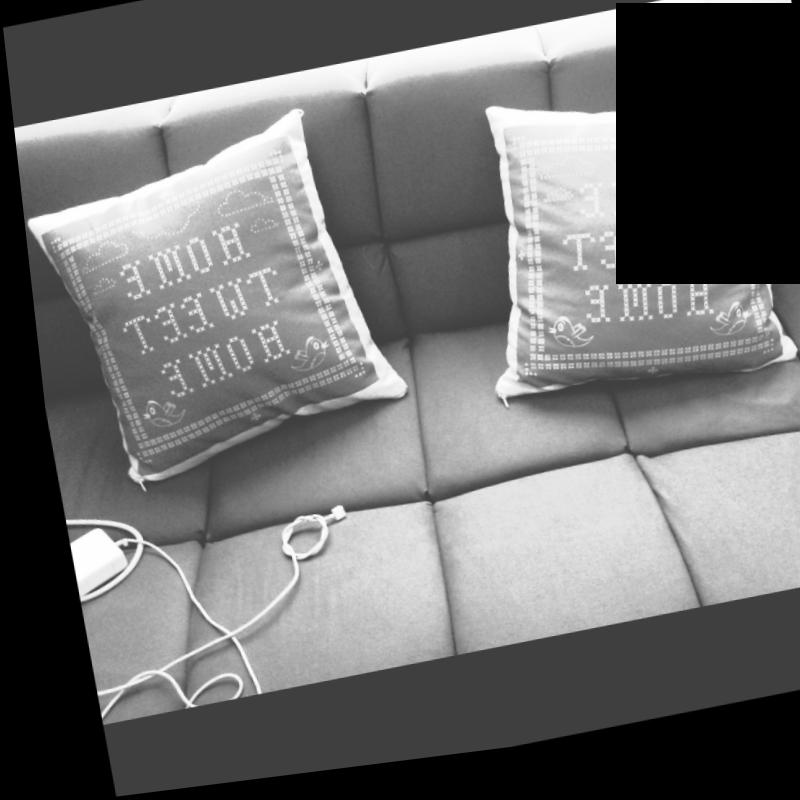pillow: (16, 105, 405, 493), (446, 68, 800, 429)
